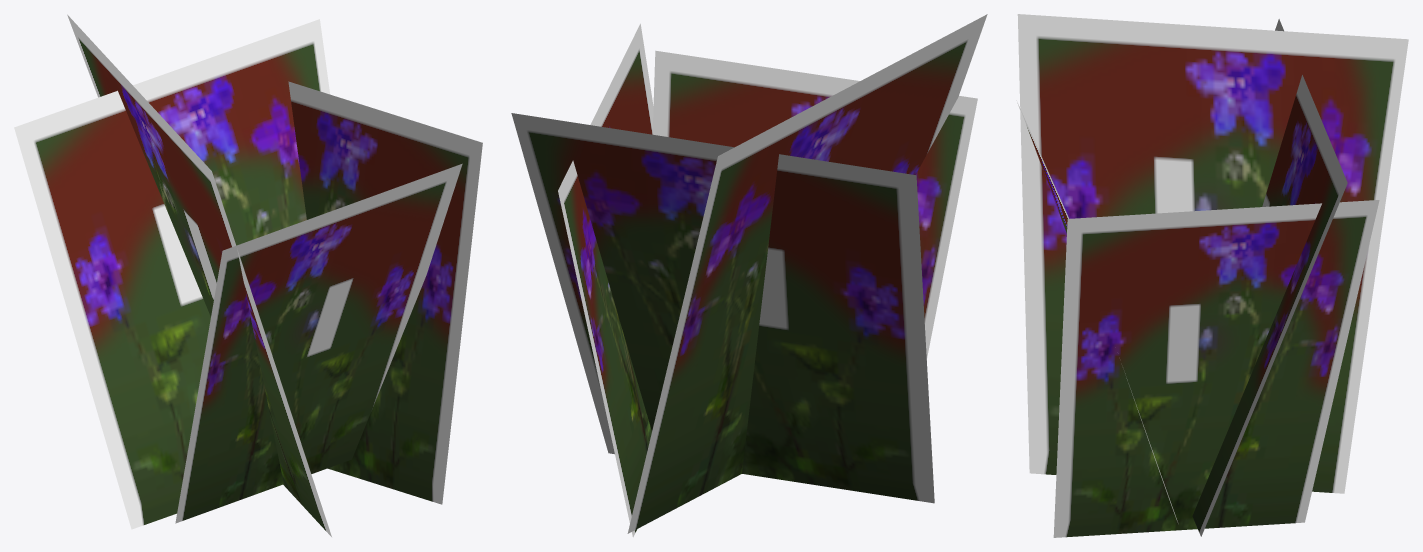
File: utility_grasses_xcz02.FBX
3 views of the same model, side by side, from view 1: azimuth 30°, elevation 25°; view 2: azimuth 150°, elevation 25°; view 3: azimuth 270°, elevation 25° (orthographic). The views are drawn at different scales.
Parts seen in each view (by area): view 1: utility_grasses_xcz02; view 2: utility_grasses_xcz02; view 3: utility_grasses_xcz02.
Boxes of the visible parts, x1,y1,x2,y2 form: utility_grasses_xcz02: [14, 14, 482, 536]; utility_grasses_xcz02: [511, 14, 987, 537]; utility_grasses_xcz02: [1016, 14, 1408, 537].
Bounding box in the file's own units: 83.23 × 93.06 × 78.86.
